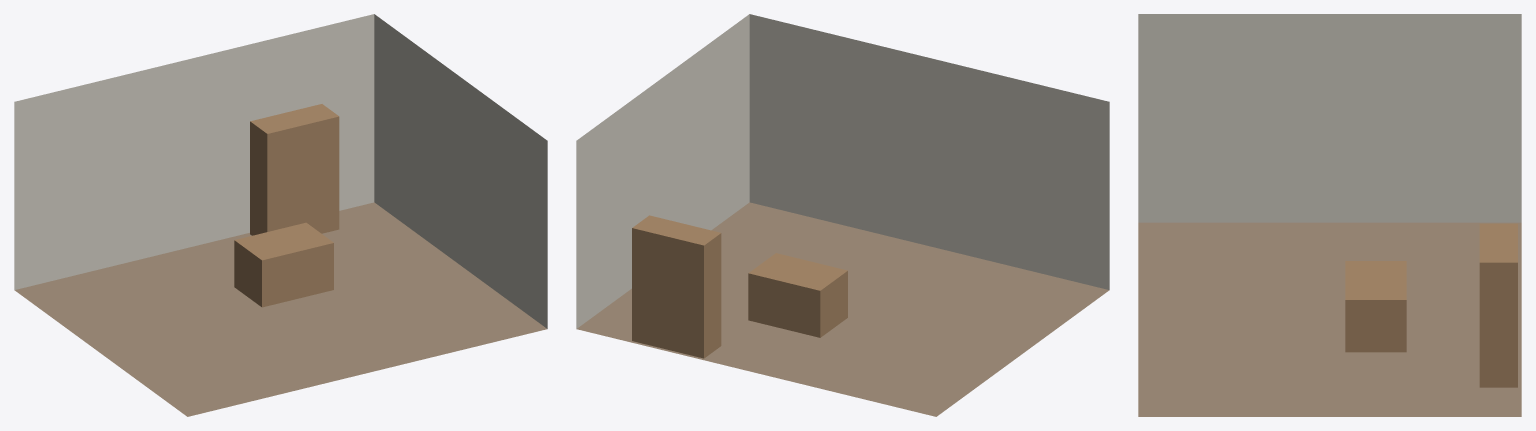
File: room.gltf
3 views of the same model, side by side, from view 1: azimuth 30°, elevation 25°; view 2: azimuth 150°, elevation 25°; view 3: azimuth 270°, elevation 25° (orthographic). The views are drawn at different scales.
Visible parts, largest first — view 1: lamp-room; view 2: lamp-room; view 3: lamp-room.
Part boxes in pixels (box(x1,y1,x2,y2)): lamp-room: box(14, 14, 547, 416); lamp-room: box(576, 14, 1109, 416); lamp-room: box(1138, 14, 1521, 416).
Bounding box in the file's own units: 6 × 3 × 5.
